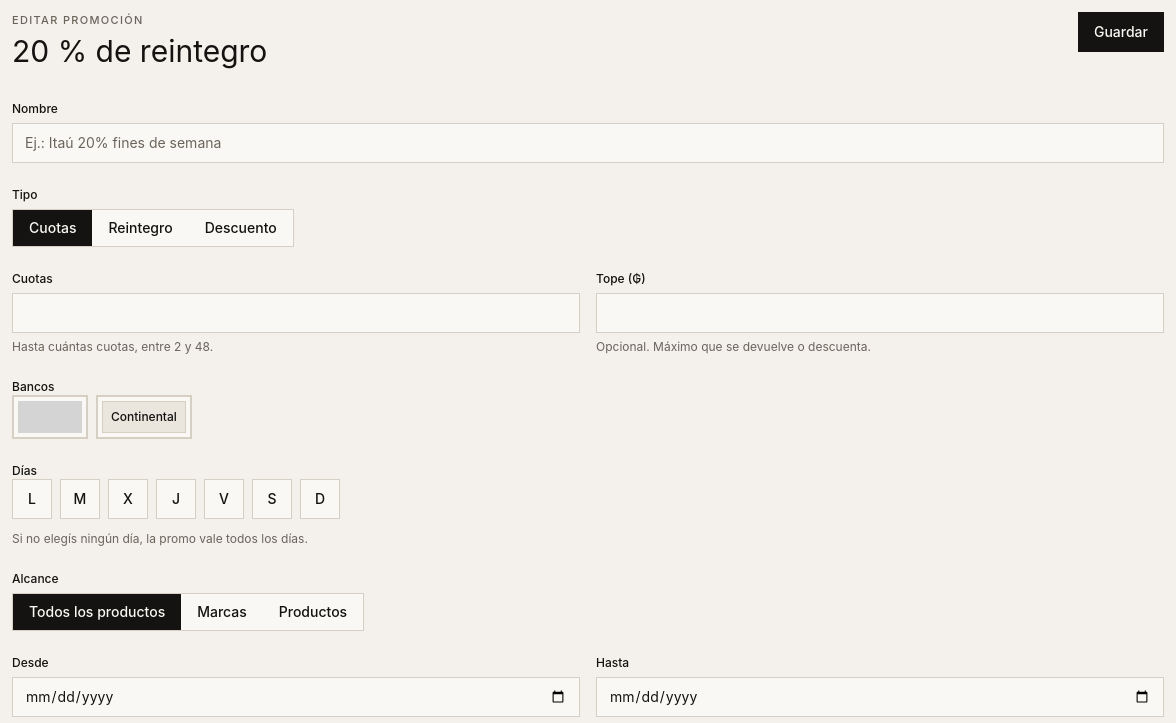
Scenario: BankPromoForm › shows the success message after saving
What coordinates should you click on to do the following:
click the button "Guardar"
I would click on:
 (1121, 32)
Its box is [1078,12,1164,52].
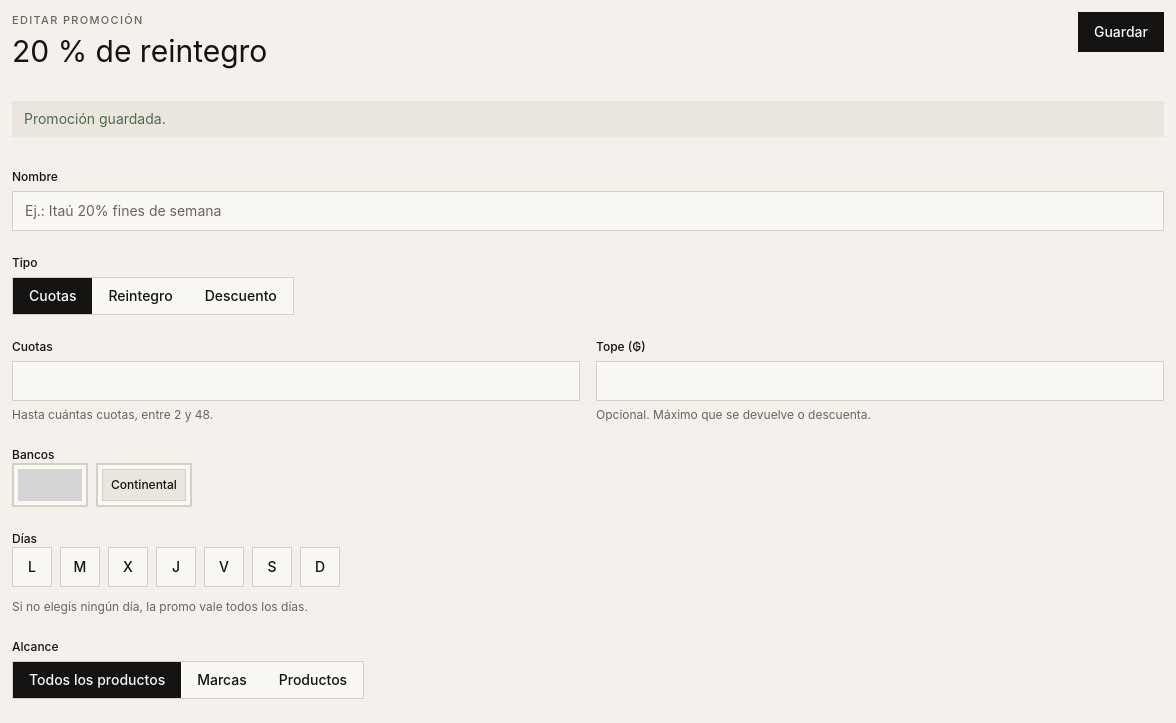
expect the message reads "Promoción guardada.": met, box [24,110,166,126]
